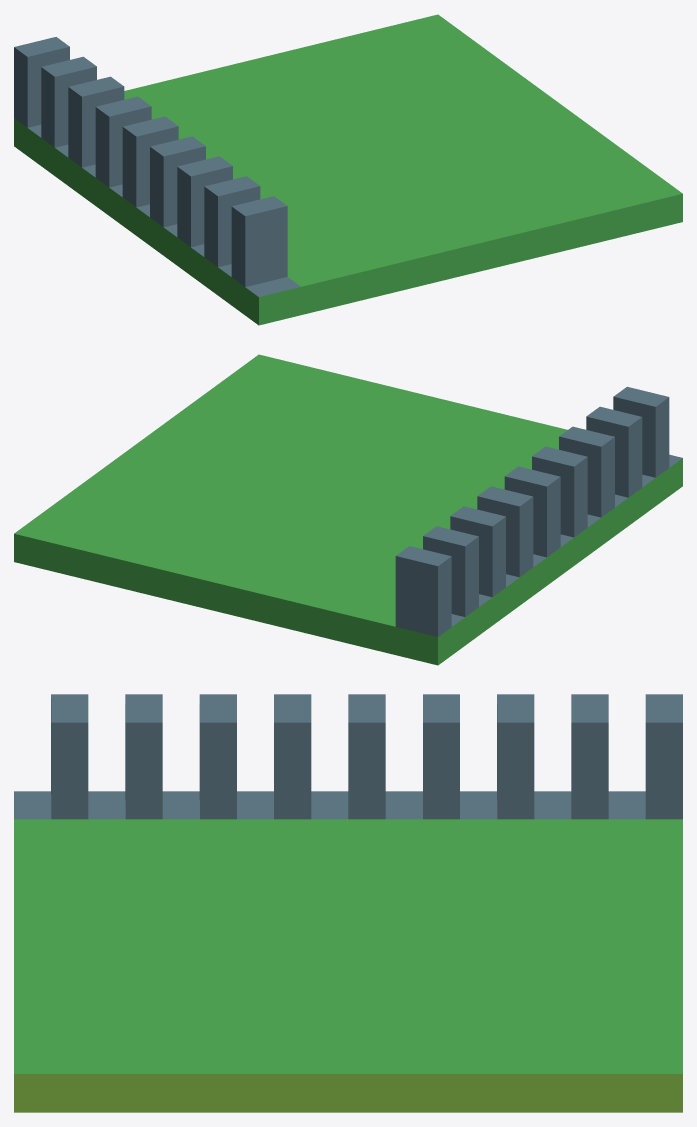
The model's file is Ground.fbx.
3 views of the same model, one above another, from view 1: azimuth 30°, elevation 25°; view 2: azimuth 150°, elevation 25°; view 3: azimuth 270°, elevation 25° (orthographic). The views are drawn at different scales.
Visible parts, largest first — view 1: Cube; view 2: Cube; view 3: Cube.
Part boxes in pixels (x1,y1,x2,y2): Cube: (14, 14, 682, 325); Cube: (14, 354, 682, 665); Cube: (14, 694, 682, 1112).
Bounding box in the file's own units: 2 × 0.4472 × 2.
